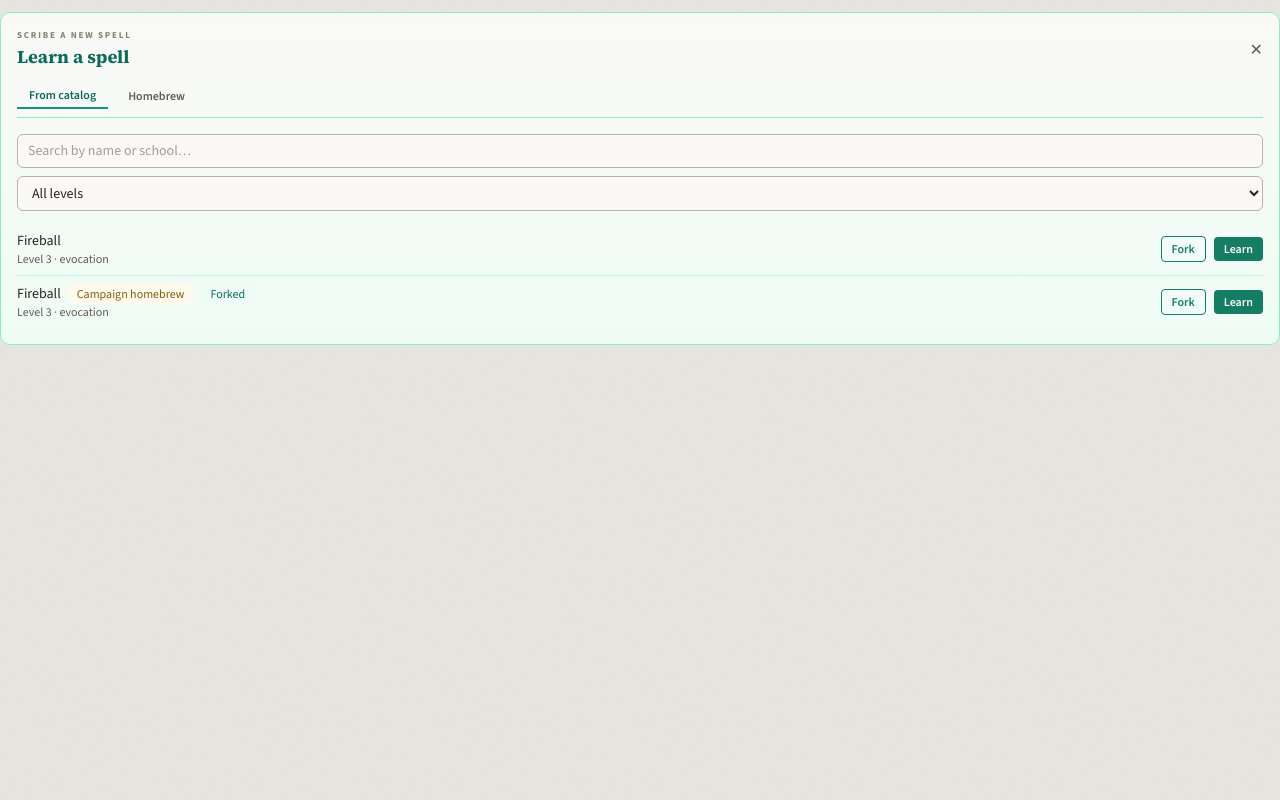
Test case: AddSpellPanel — Homebrew tab gates Edit/Delete on catalog.editable (#1808/#1811) › excludes a fellow (non-DM) member's non-editable CAMPAIGN row from the Homebrew tab entirely
This screenshot has width=1280, height=800.
Click the button "Homebrew".
click(157, 96)  # box [116,82,197,108]
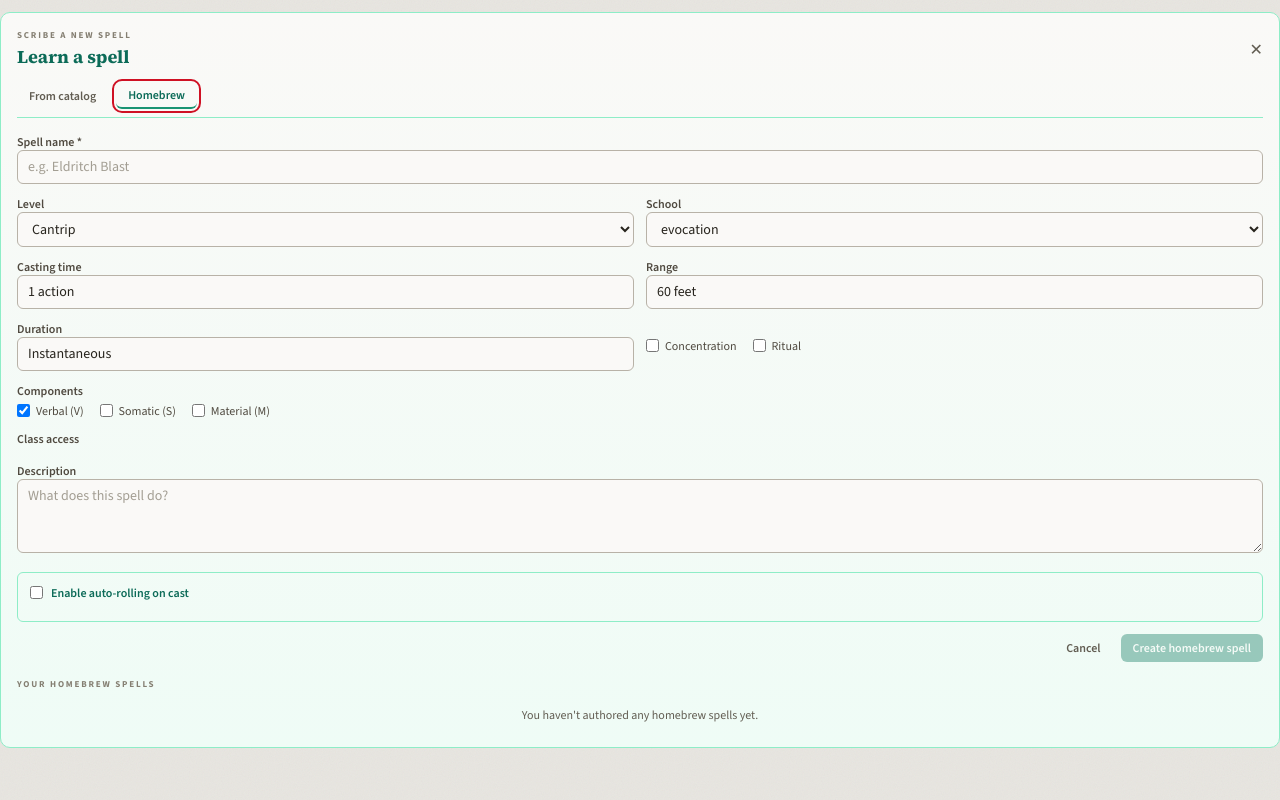
Expected: the text "You haven't authored any homebrew spells yet." is shown, [522,707,758,723]
